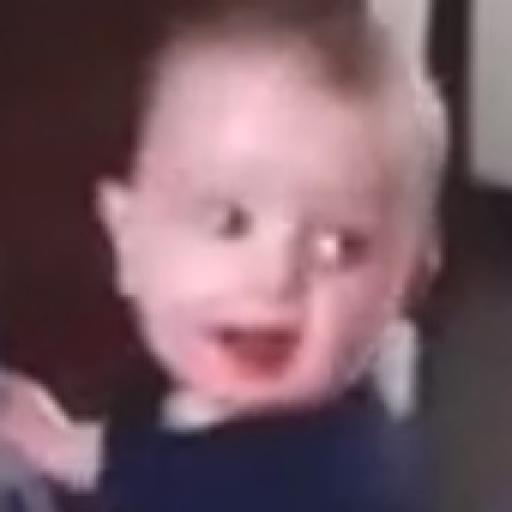Autism: (136, 13, 481, 446)
